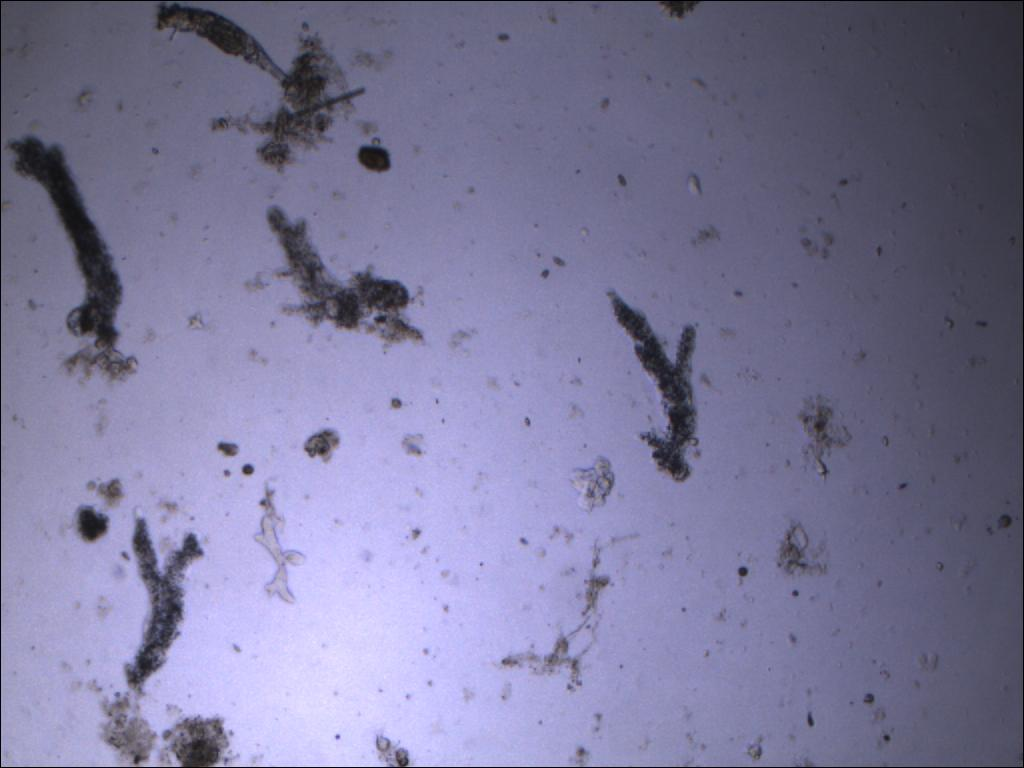amoeba: (6, 129, 128, 348), (599, 280, 708, 490), (121, 503, 209, 702), (255, 199, 364, 333)
